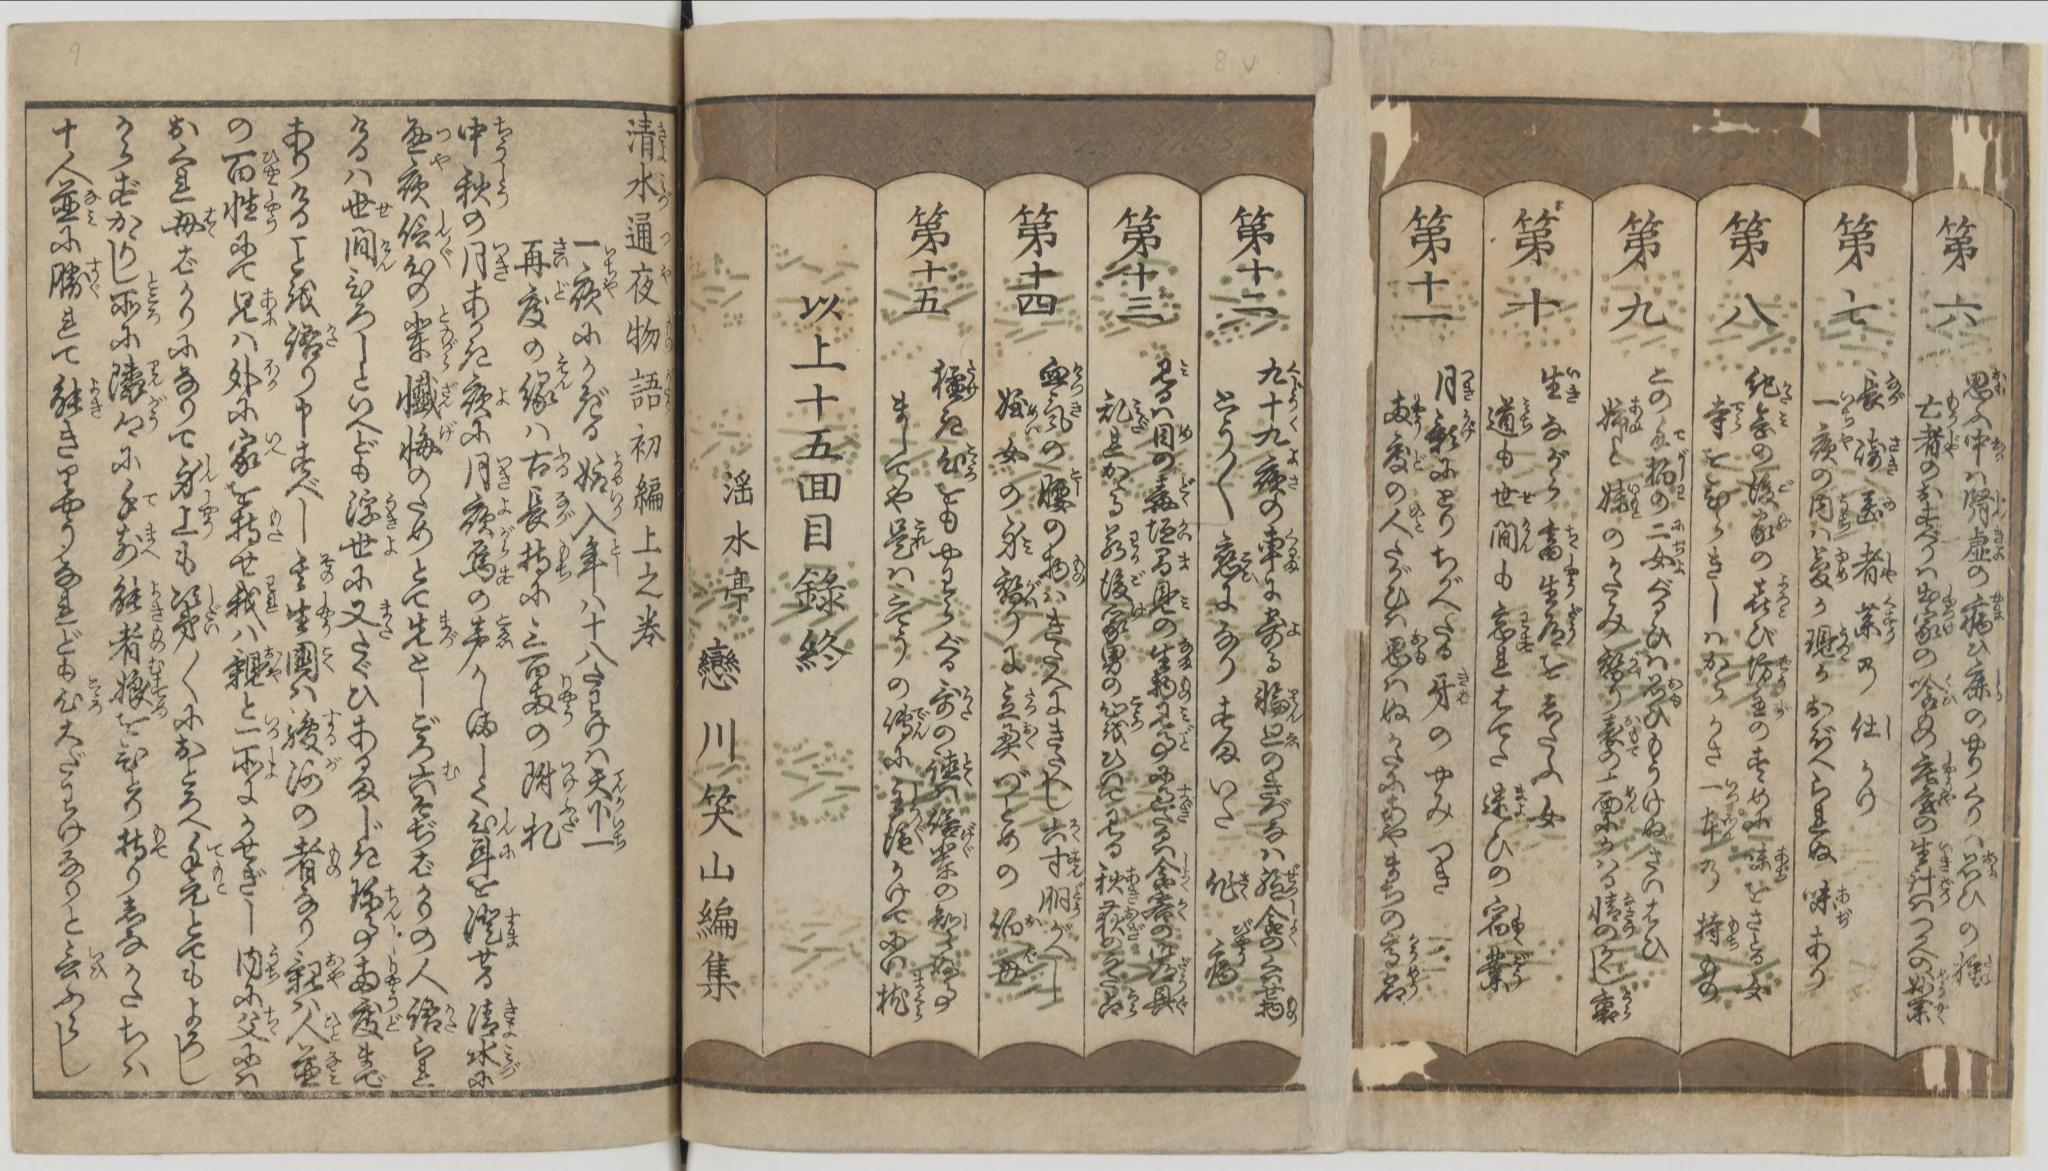MainZone-Character: (1207, 915, 1252, 995), (516, 354, 574, 416), (114, 661, 174, 718), (284, 836, 346, 893), (459, 526, 518, 583), (167, 581, 222, 642), (452, 162, 519, 209), (459, 900, 522, 950), (404, 311, 459, 368), (283, 642, 335, 703), (519, 800, 574, 856), (343, 874, 405, 924), (398, 419, 460, 467), (105, 572, 167, 620), (221, 351, 288, 395), (42, 256, 107, 301), (224, 576, 283, 626), (284, 952, 346, 998), (923, 753, 976, 807), (525, 673, 578, 727), (1802, 880, 1857, 932), (627, 364, 679, 419), (518, 278, 572, 330), (1477, 945, 1533, 995), (339, 226, 397, 276), (224, 429, 283, 477), (1587, 888, 1640, 940), (395, 156, 449, 208), (110, 274, 165, 325), (281, 707, 340, 753), (283, 758, 343, 803), (219, 143, 280, 188), (224, 645, 284, 690), (163, 491, 215, 543), (876, 970, 926, 1025), (108, 395, 170, 439), (44, 371, 100, 419), (881, 703, 938, 749), (51, 678, 110, 723), (174, 865, 233, 910), (1426, 408, 1477, 460), (1476, 895, 1529, 945), (288, 543, 338, 596), (48, 181, 103, 229), (519, 538, 575, 585), (347, 994, 405, 1039), (1851, 596, 1900, 648), (519, 486, 572, 534), (456, 117, 516, 159), (1248, 678, 1303, 724), (572, 491, 627, 537), (397, 373, 459, 413), (338, 596, 395, 640), (928, 356, 979, 405), (105, 621, 173, 658), (519, 756, 577, 798), (1589, 784, 1639, 834), (572, 264, 622, 313), (1855, 429, 1903, 479), (1256, 860, 1304, 911), (623, 110, 671, 160), (627, 256, 675, 306), (1741, 575, 1793, 621), (283, 595, 335, 641), (226, 506, 286, 547), (516, 233, 570, 278), (467, 994, 522, 1037), (113, 824, 170, 865), (104, 357, 166, 395), (1250, 444, 1303, 489), (48, 940, 107, 980), (987, 721, 1042, 763), (1595, 710, 1643, 758), (1380, 433, 1428, 481), (1488, 603, 1535, 652), (1252, 526, 1301, 572), (935, 441, 986, 486), (622, 164, 672, 209), (570, 448, 627, 488), (283, 321, 340, 360), (340, 489, 398, 529), (221, 191, 279, 231), (1207, 531, 1250, 583), (459, 243, 513, 284), (461, 612, 516, 652), (224, 287, 279, 328), (927, 678, 975, 724), (1644, 450, 1689, 499), (166, 453, 215, 498), (108, 526, 160, 568), (457, 377, 511, 418), (401, 609, 454, 649), (229, 1002, 283, 1043), (398, 114, 453, 153), (1961, 661, 2007, 707), (1429, 360, 1476, 406), (1257, 908, 1305, 953), (993, 568, 1042, 612), (1035, 470, 1084, 513), (581, 534, 623, 585), (293, 1046, 343, 1088), (226, 711, 279, 752), (457, 495, 515, 531), (1961, 592, 2004, 640), (1903, 872, 1951, 915), (627, 312, 675, 356), (235, 942, 283, 985), (1744, 470, 1799, 507), (404, 997, 459, 1035), (1380, 500, 1431, 541), (1906, 675, 1958, 714), (346, 957, 407, 991), (160, 204, 218, 239), (1488, 394, 1533, 439), (1488, 512, 1533, 557), (1480, 782, 1526, 825), (993, 943, 1037, 990), (885, 516, 931, 559), (1692, 911, 1740, 953), (1097, 388, 1145, 430), (1706, 392, 1747, 441), (571, 235, 620, 276), (466, 453, 515, 493), (340, 533, 402, 565), (1810, 543, 1850, 593), (401, 240, 457, 276), (288, 1009, 345, 1044), (1855, 543, 1899, 588), (1428, 669, 1473, 713), (1099, 696, 1144, 739), (1535, 516, 1581, 558), (1539, 558, 1581, 604), (1383, 389, 1425, 436), (1205, 865, 1252, 907), (994, 395, 1041, 437), (1858, 368, 1906, 409), (1595, 645, 1643, 686), (623, 214, 671, 254), (1093, 865, 1142, 904), (407, 761, 461, 796), (882, 818, 924, 863), (224, 749, 280, 783), (1097, 904, 1144, 945), (1806, 624, 1854, 664), (993, 682, 1041, 721), (466, 1061, 526, 1092), (1748, 509, 1798, 547), (520, 444, 570, 482), (397, 212, 454, 245), (1142, 475, 1193, 512), (1149, 731, 1200, 768), (1035, 555, 1090, 589), (1381, 633, 1428, 672), (1747, 651, 1795, 689), (114, 485, 162, 523), (1149, 351, 1186, 401), (1912, 425, 1962, 460), (1542, 363, 1584, 405), (1810, 491, 1851, 534), (1596, 396, 1641, 436), (1962, 488, 2009, 526), (1747, 845, 1793, 883), (1255, 606, 1301, 644), (1257, 994, 1304, 1032), (1253, 391, 1301, 427), (1039, 881, 1087, 918), (1813, 423, 1854, 465), (1750, 401, 1792, 441), (1099, 523, 1139, 565), (1152, 783, 1193, 825), (1044, 398, 1086, 439), (1962, 523, 2006, 562), (1149, 855, 1193, 894), (1041, 848, 1086, 886), (1259, 353, 1305, 389), (174, 835, 229, 866), (1910, 752, 1958, 787), (1746, 367, 1793, 402), (1699, 804, 1741, 843), (1542, 606, 1581, 648), (1149, 637, 1193, 675), (996, 516, 1034, 559), (1041, 360, 1084, 398), (342, 187, 395, 218), (928, 810, 979, 842), (1377, 932, 1423, 967), (1914, 394, 1962, 427), (585, 797, 633, 831), (1913, 579, 1955, 617), (1100, 602, 1144, 638), (1145, 673, 1194, 706), (1378, 967, 1423, 1002), (1909, 838, 1955, 872), (1146, 987, 1194, 1019), (993, 908, 1041, 940), (1958, 850, 2000, 887), (1954, 947, 1990, 990), (1589, 990, 1633, 1025), (886, 775, 921, 818), (1962, 368, 2007, 402), (1099, 988, 1144, 1022), (1854, 489, 1893, 527), (464, 838, 515, 867), (1644, 671, 1685, 707), (1601, 481, 1641, 517), (1149, 953, 1190, 990), (467, 806, 515, 836), (1748, 692, 1793, 724), (1644, 519, 1689, 551), (934, 845, 979, 877), (1146, 581, 1189, 614), (466, 1039, 516, 1067), (927, 907, 971, 939), (1812, 394, 1857, 425), (1145, 703, 1194, 731), (1905, 1001, 1955, 1028), (1965, 430, 2003, 465), (1907, 969, 1950, 999), (1644, 548, 1687, 579), (1152, 419, 1194, 450), (1100, 568, 1142, 599), (1146, 512, 1191, 540), (1149, 547, 1190, 578), (1488, 482, 1535, 509), (1909, 789, 1957, 814), (1038, 818, 1086, 843), (1255, 724, 1300, 751), (582, 769, 627, 796), (1696, 779, 1740, 806), (1913, 614, 1954, 641), (582, 834, 627, 856)
MainZone-Ruby: (148, 659, 169, 718), (194, 492, 218, 543), (1229, 917, 1252, 967), (201, 583, 221, 641), (437, 308, 457, 364), (498, 527, 516, 585), (145, 396, 170, 436), (1127, 394, 1149, 434), (1509, 949, 1530, 991), (492, 119, 513, 162), (1561, 558, 1581, 603), (909, 971, 926, 1023), (557, 672, 572, 728), (1833, 884, 1852, 928), (1881, 596, 1897, 647), (551, 491, 574, 529), (1883, 368, 1905, 408), (489, 243, 511, 283), (436, 607, 457, 647), (1564, 363, 1584, 403), (911, 706, 931, 746), (314, 593, 333, 634), (1122, 904, 1144, 942), (262, 645, 283, 683), (1774, 575, 1792, 619), (494, 162, 511, 208), (1284, 683, 1304, 723), (1508, 901, 1526, 943), (1286, 863, 1303, 908), (1283, 527, 1300, 572), (554, 538, 571, 583), (325, 836, 342, 881), (1173, 784, 1193, 822), (262, 356, 281, 394), (149, 822, 169, 860), (492, 454, 513, 489), (1623, 711, 1640, 755), (1459, 361, 1476, 405), (554, 353, 571, 396), (262, 427, 284, 460), (653, 169, 671, 208), (550, 233, 570, 270), (376, 235, 395, 271), (262, 191, 280, 231), (325, 952, 345, 988), (384, 997, 402, 1036), (322, 1049, 342, 1085), (84, 259, 104, 295), (660, 365, 674, 416), (381, 886, 402, 919), (82, 187, 98, 229), (86, 673, 103, 716), (322, 1009, 345, 1040), (145, 575, 160, 620), (257, 287, 276, 325), (142, 523, 160, 561), (1622, 888, 1636, 938), (560, 797, 580, 832), (558, 761, 578, 796), (146, 276, 160, 325), (87, 945, 107, 980), (1833, 547, 1850, 588), (1566, 606, 1582, 647), (1516, 607, 1532, 651), (1886, 430, 1900, 478), (495, 613, 513, 649), (266, 507, 284, 544), (1284, 357, 1304, 391), (1127, 694, 1144, 734), (262, 148, 279, 187), (502, 997, 519, 1036), (1674, 448, 1687, 500), (504, 905, 519, 947), (1667, 673, 1685, 709), (1177, 472, 1196, 507), (1024, 574, 1042, 609), (376, 599, 392, 637), (437, 377, 457, 409), (962, 356, 976, 401), (1724, 912, 1740, 953), (964, 443, 979, 484), (1774, 654, 1792, 687), (1176, 637, 1194, 671), (1124, 866, 1141, 902), (913, 517, 931, 551), (609, 448, 626, 485), (148, 357, 166, 391), (211, 862, 229, 895), (86, 375, 100, 419), (381, 488, 397, 527), (264, 943, 280, 983), (1938, 675, 1955, 710), (1729, 399, 1746, 434), (1070, 883, 1087, 918), (959, 753, 976, 789), (609, 537, 623, 579), (1834, 493, 1850, 531), (1287, 441, 1300, 488), (1127, 527, 1142, 565), (654, 121, 670, 159), (1408, 505, 1428, 534), (609, 491, 627, 522), (1772, 694, 1793, 721), (1409, 391, 1423, 430), (1020, 723, 1039, 751), (1409, 634, 1426, 666), (1024, 403, 1041, 436), (553, 446, 570, 478), (262, 1004, 279, 1036), (1775, 846, 1791, 881), (1456, 671, 1471, 706), (264, 576, 280, 612), (148, 621, 166, 651), (498, 1060, 522, 1082), (553, 278, 574, 304), (324, 709, 338, 746), (1881, 551, 1896, 585), (1838, 394, 1855, 425), (1461, 410, 1477, 444), (1068, 846, 1084, 877), (610, 797, 627, 828), (318, 547, 332, 583), (436, 419, 457, 443), (1722, 810, 1737, 842), (443, 1001, 459, 1033), (201, 204, 217, 236), (1980, 850, 1997, 880), (1626, 649, 1643, 679), (1519, 515, 1532, 554), (1518, 396, 1530, 436), (1020, 687, 1037, 717), (961, 685, 973, 724), (497, 804, 513, 834), (381, 533, 401, 558), (384, 957, 401, 987), (200, 453, 217, 482), (1941, 583, 1955, 619), (1837, 627, 1851, 662), (1627, 482, 1641, 517), (1069, 358, 1083, 394), (1629, 396, 1641, 434), (1287, 392, 1300, 430), (1287, 917, 1303, 947), (1943, 429, 1959, 457), (1937, 874, 1951, 908), (1671, 519, 1685, 552), (1564, 523, 1581, 551), (1238, 550, 1252, 583), (1513, 783, 1526, 820), (657, 263, 675, 288), (909, 776, 920, 817), (1284, 997, 1300, 1026), (603, 243, 619, 273), (1990, 368, 2007, 395), (1988, 595, 2004, 621), (262, 714, 279, 741), (1992, 668, 2004, 703), (1177, 952, 1190, 987), (1941, 752, 1955, 783), (1937, 842, 1952, 870), (1625, 784, 1640, 813), (1412, 446, 1426, 477), (1235, 872, 1250, 900), (1069, 471, 1084, 499), (440, 240, 454, 271), (1992, 526, 2004, 559), (1070, 558, 1087, 583), (661, 315, 672, 353), (1128, 602, 1148, 623), (959, 820, 979, 841), (1944, 395, 1959, 422), (1127, 990, 1142, 1016), (1068, 820, 1086, 842), (1179, 422, 1196, 446), (1177, 516, 1194, 540), (1179, 706, 1196, 730), (909, 818, 926, 842), (497, 495, 513, 519), (1177, 673, 1191, 701), (1724, 777, 1740, 803), (1407, 966, 1419, 997), (440, 762, 461, 780), (1620, 988, 1632, 1022), (1129, 567, 1146, 589), (376, 197, 392, 219), (612, 769, 626, 796), (494, 385, 508, 412), (263, 755, 277, 782), (1995, 489, 2007, 519), (1408, 933, 1421, 963), (1990, 437, 2006, 461), (1018, 534, 1034, 558), (435, 212, 450, 236), (1937, 789, 1957, 807), (1982, 950, 1992, 987), (143, 489, 162, 509), (1935, 969, 1948, 997), (1838, 429, 1852, 454), (1778, 405, 1791, 433), (1176, 592, 1193, 613), (318, 647, 332, 672), (435, 121, 450, 143), (1020, 946, 1038, 964), (324, 755, 342, 773), (1180, 856, 1190, 890), (1068, 399, 1084, 419), (1882, 493, 1897, 515), (1177, 547, 1190, 572), (1934, 1001, 1948, 1023), (325, 325, 339, 347), (1777, 477, 1793, 495), (958, 843, 976, 860), (498, 841, 515, 859), (210, 841, 228, 858), (1177, 732, 1193, 752), (602, 276, 617, 295), (1777, 513, 1791, 534), (1177, 354, 1191, 375), (1023, 910, 1037, 931), (1781, 377, 1793, 399), (1286, 725, 1298, 748), (1287, 616, 1300, 638), (432, 156, 450, 172), (1176, 992, 1187, 1016), (612, 834, 626, 852), (501, 1042, 513, 1061), (1521, 488, 1535, 505), (1674, 557, 1687, 574), (961, 910, 969, 933), (660, 229, 671, 246), (1941, 623, 1954, 635)
